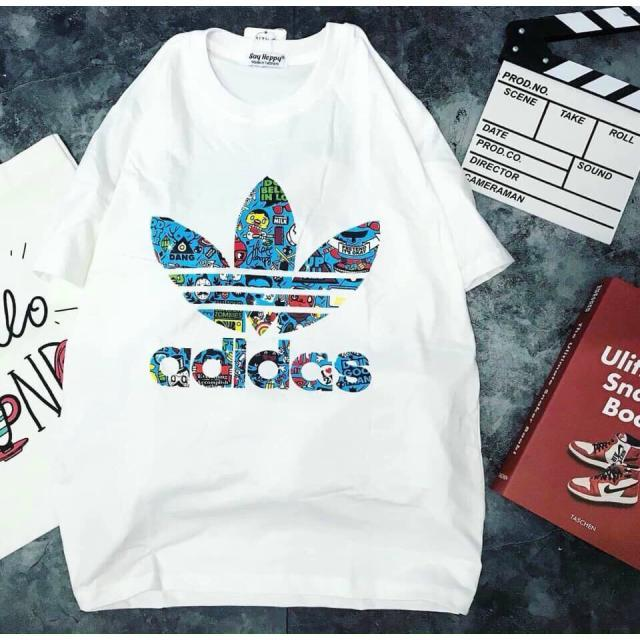Shirt: (26, 24, 520, 622)
